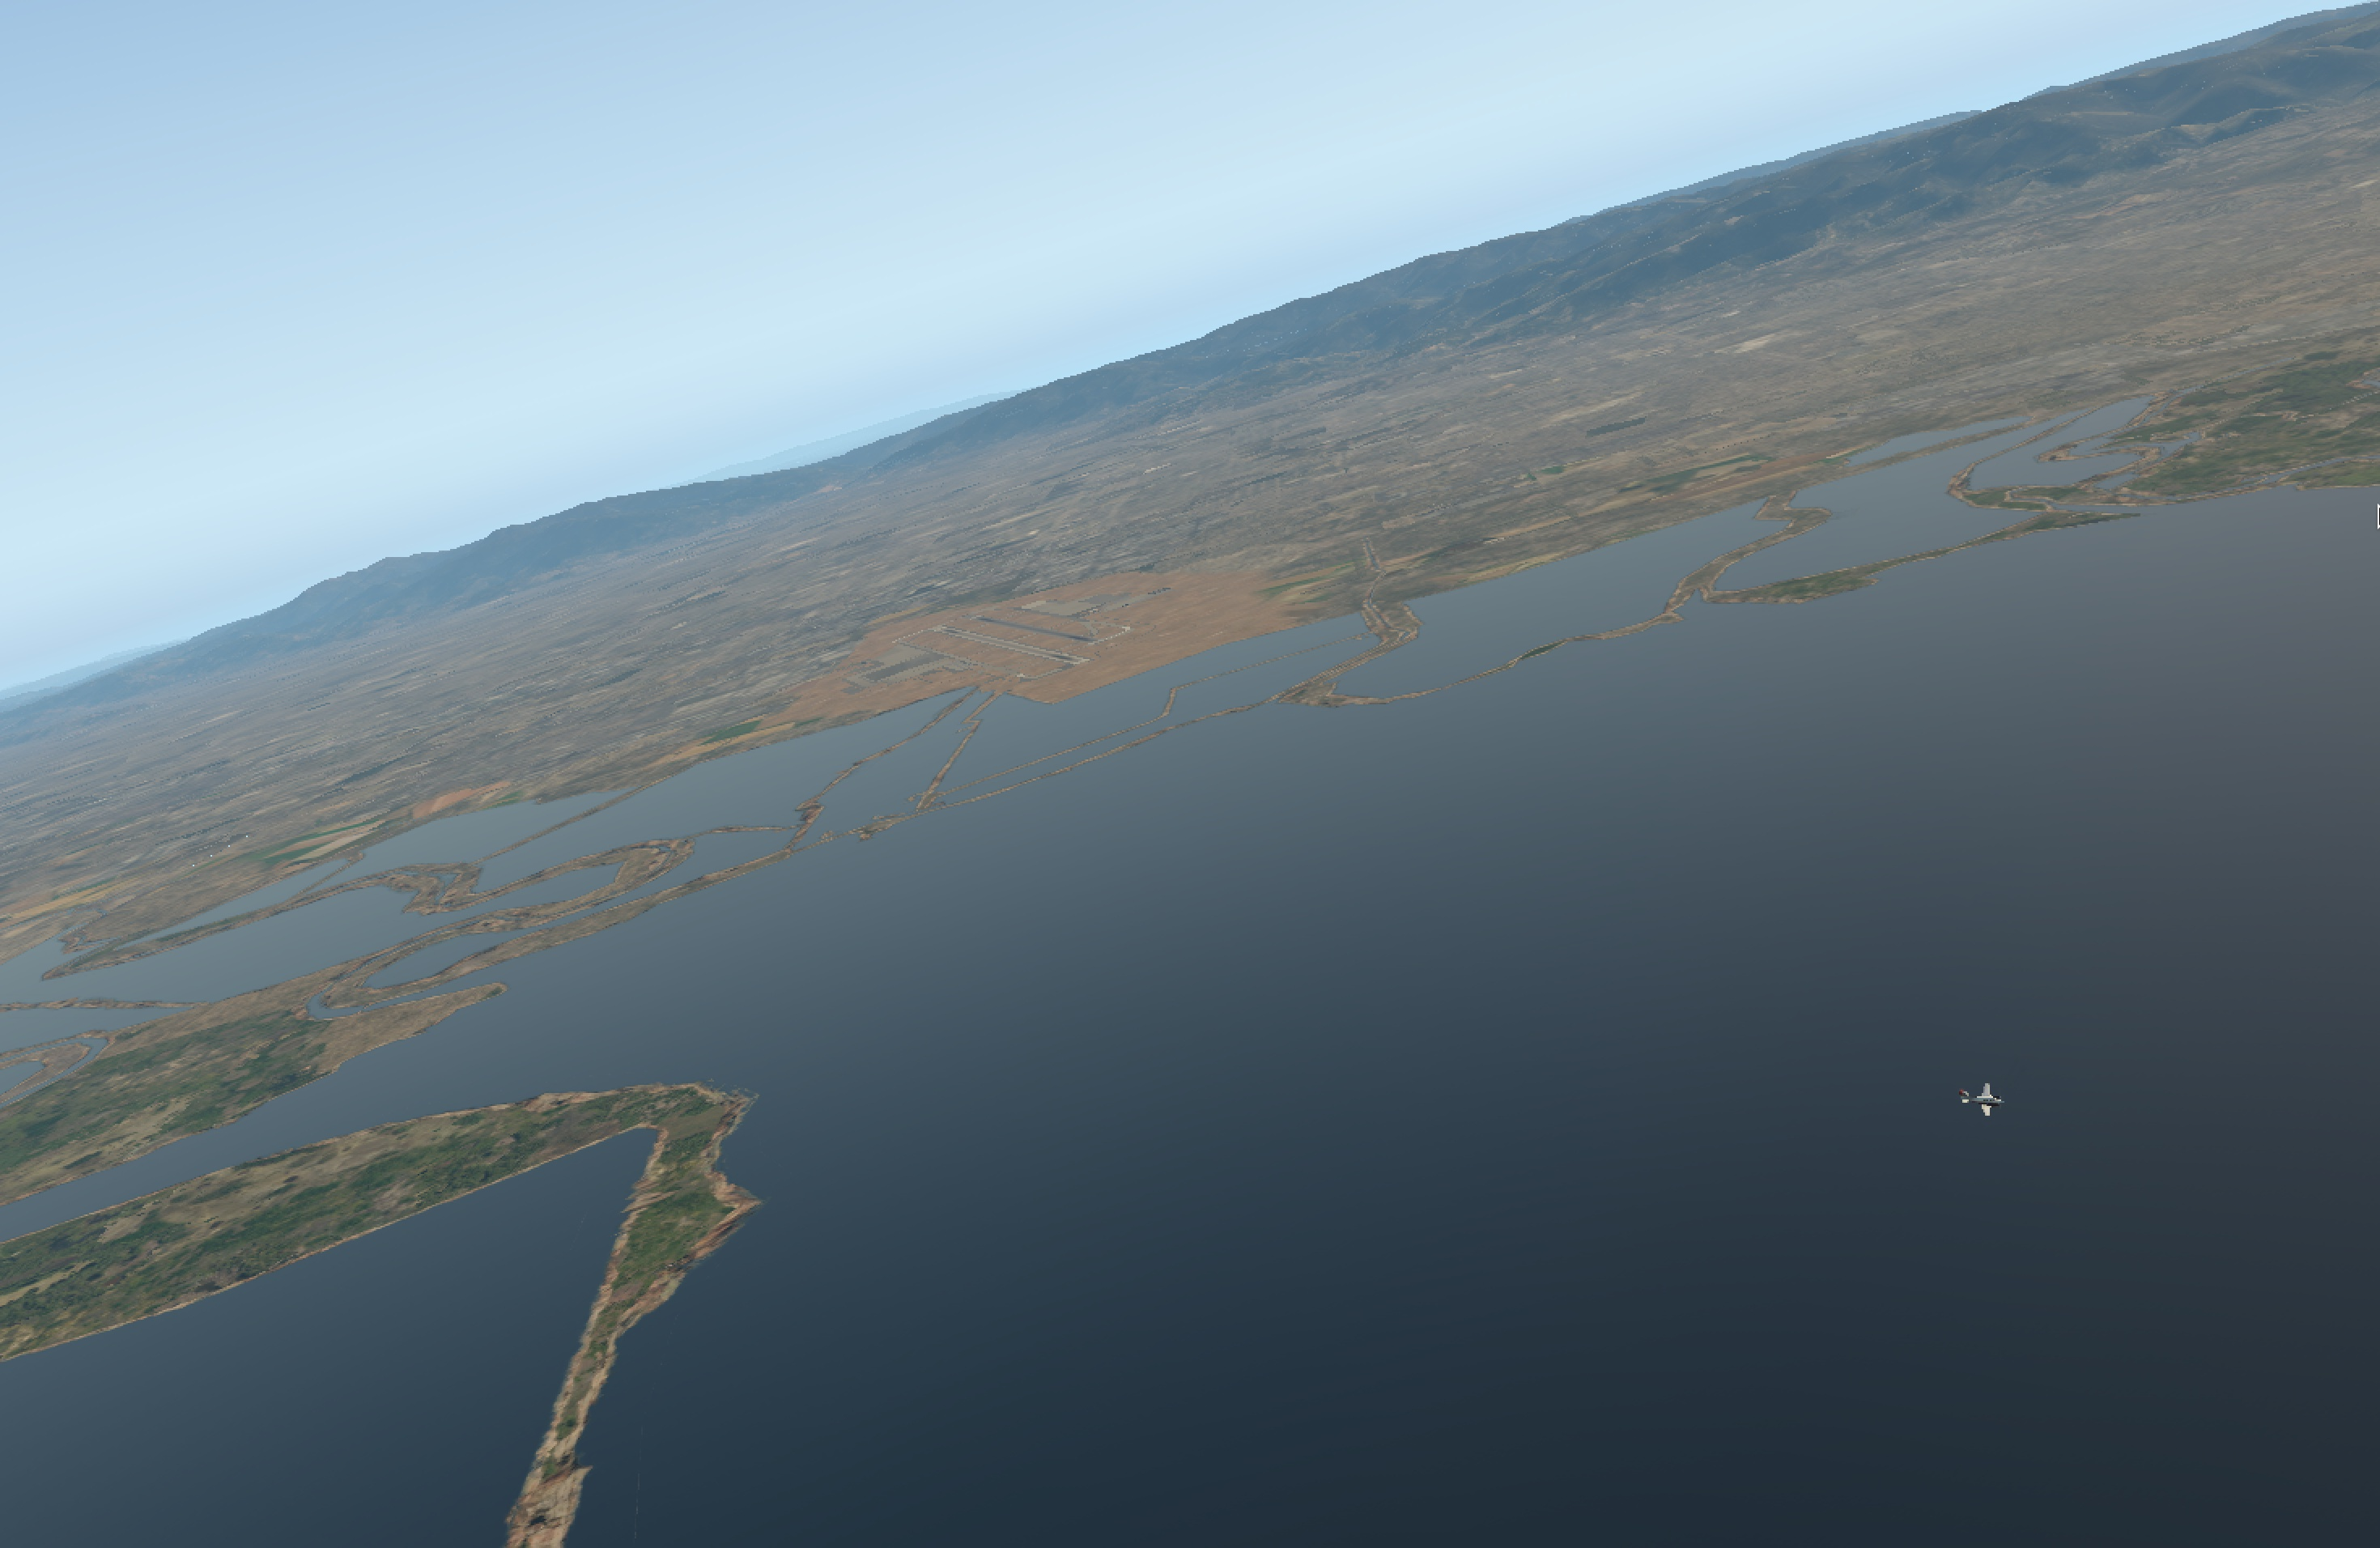aircraft: (1960, 1092, 2017, 1114)
